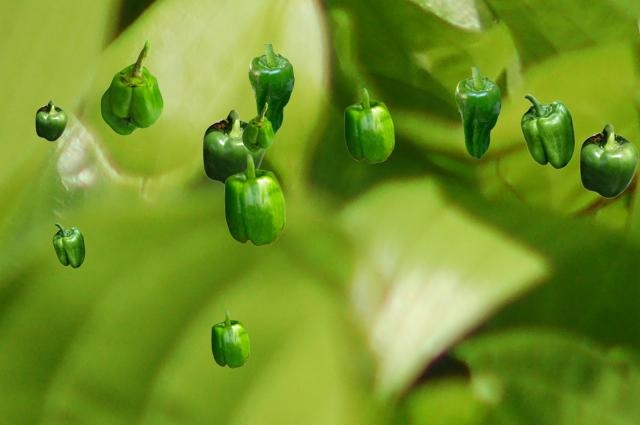bell_pepper: (100, 39, 162, 134), (224, 154, 284, 245), (202, 109, 264, 184), (579, 123, 637, 197), (248, 44, 293, 135), (455, 67, 500, 158), (520, 94, 574, 168), (344, 88, 393, 162), (211, 310, 248, 367), (242, 102, 273, 151), (52, 223, 84, 267), (35, 100, 66, 140)
